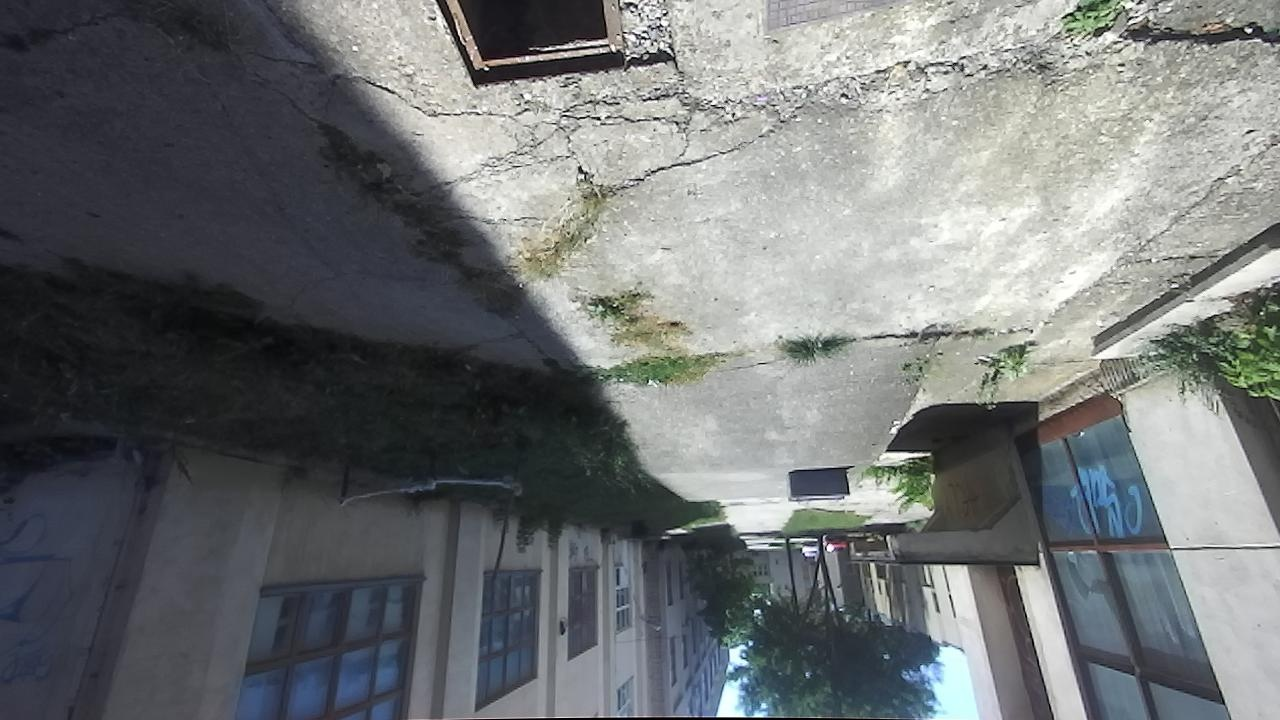drain: (429, 0, 638, 86)
